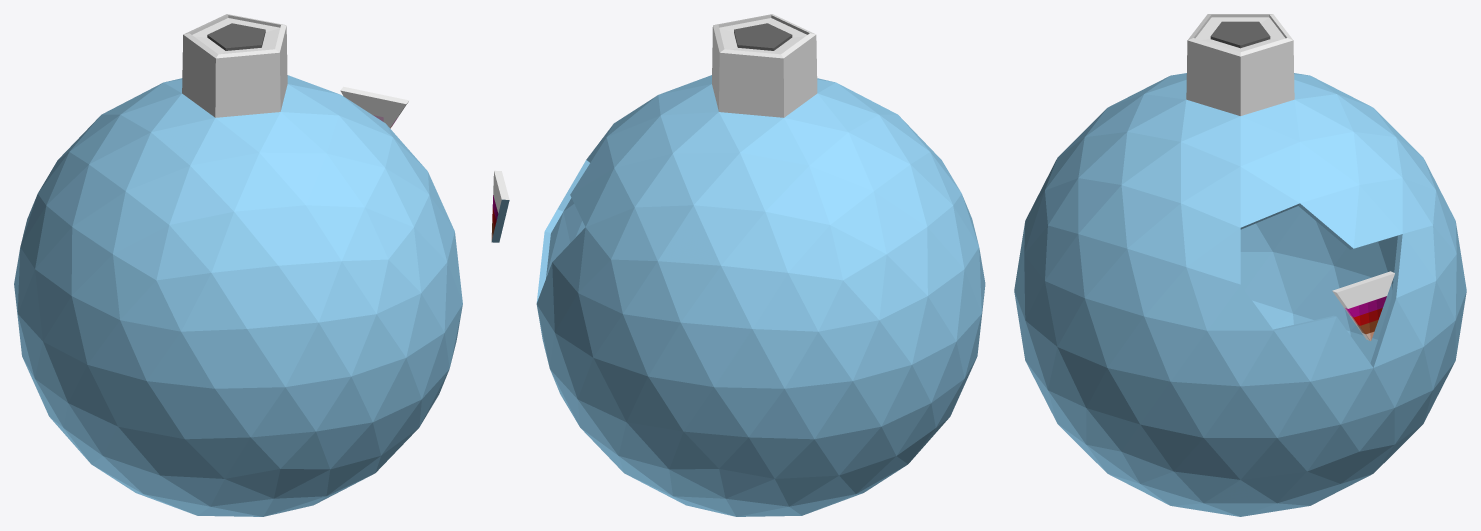
Rendered from Dome_Breached.fbx.
The picture shows the model from 3 angles, left to right: view 1: azimuth 30°, elevation 25°; view 2: azimuth 150°, elevation 25°; view 3: azimuth 270°, elevation 25°; orthographic projection.
Visible parts, largest first — view 1: Dome, Hatch.001, Glass Shard; view 2: Dome, Hatch.001, Glass Shard; view 3: Dome, Hatch.001, Glass Shard.
Boxes of the visible parts, <box> form: Dome: <box>14,14,462,516</box>; Hatch.001: <box>192,18,280,54</box>; Glass Shard: <box>340,86,409,128</box>; Dome: <box>536,14,985,516</box>; Hatch.001: <box>719,18,806,54</box>; Glass Shard: <box>491,170,509,242</box>; Dome: <box>1014,14,1466,516</box>; Hatch.001: <box>1195,17,1285,52</box>; Glass Shard: <box>1332,271,1394,341</box>.
Bounding box in the file's own units: 218 × 233 × 206.
